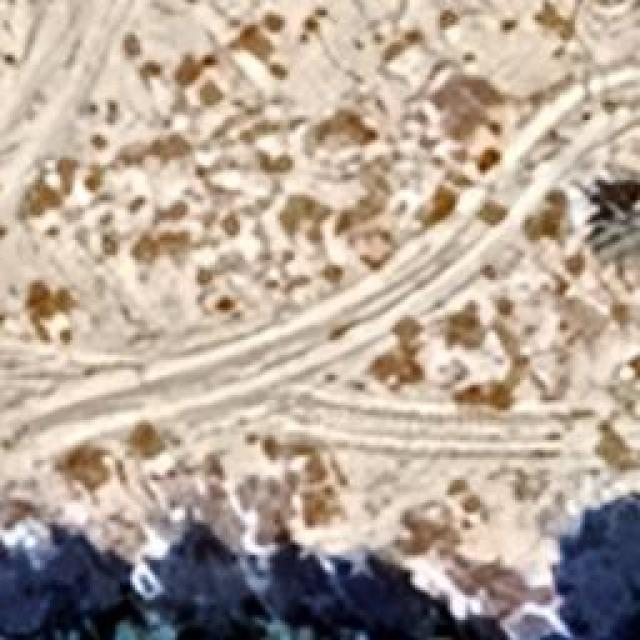PalmTree: (584, 200, 638, 278)
